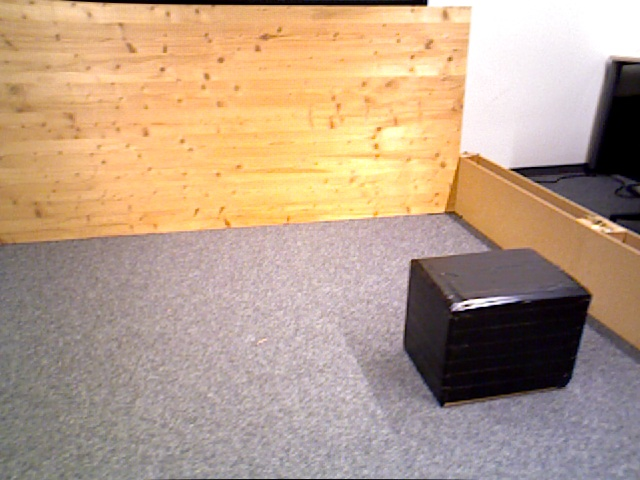push: (404, 247, 589, 405)
